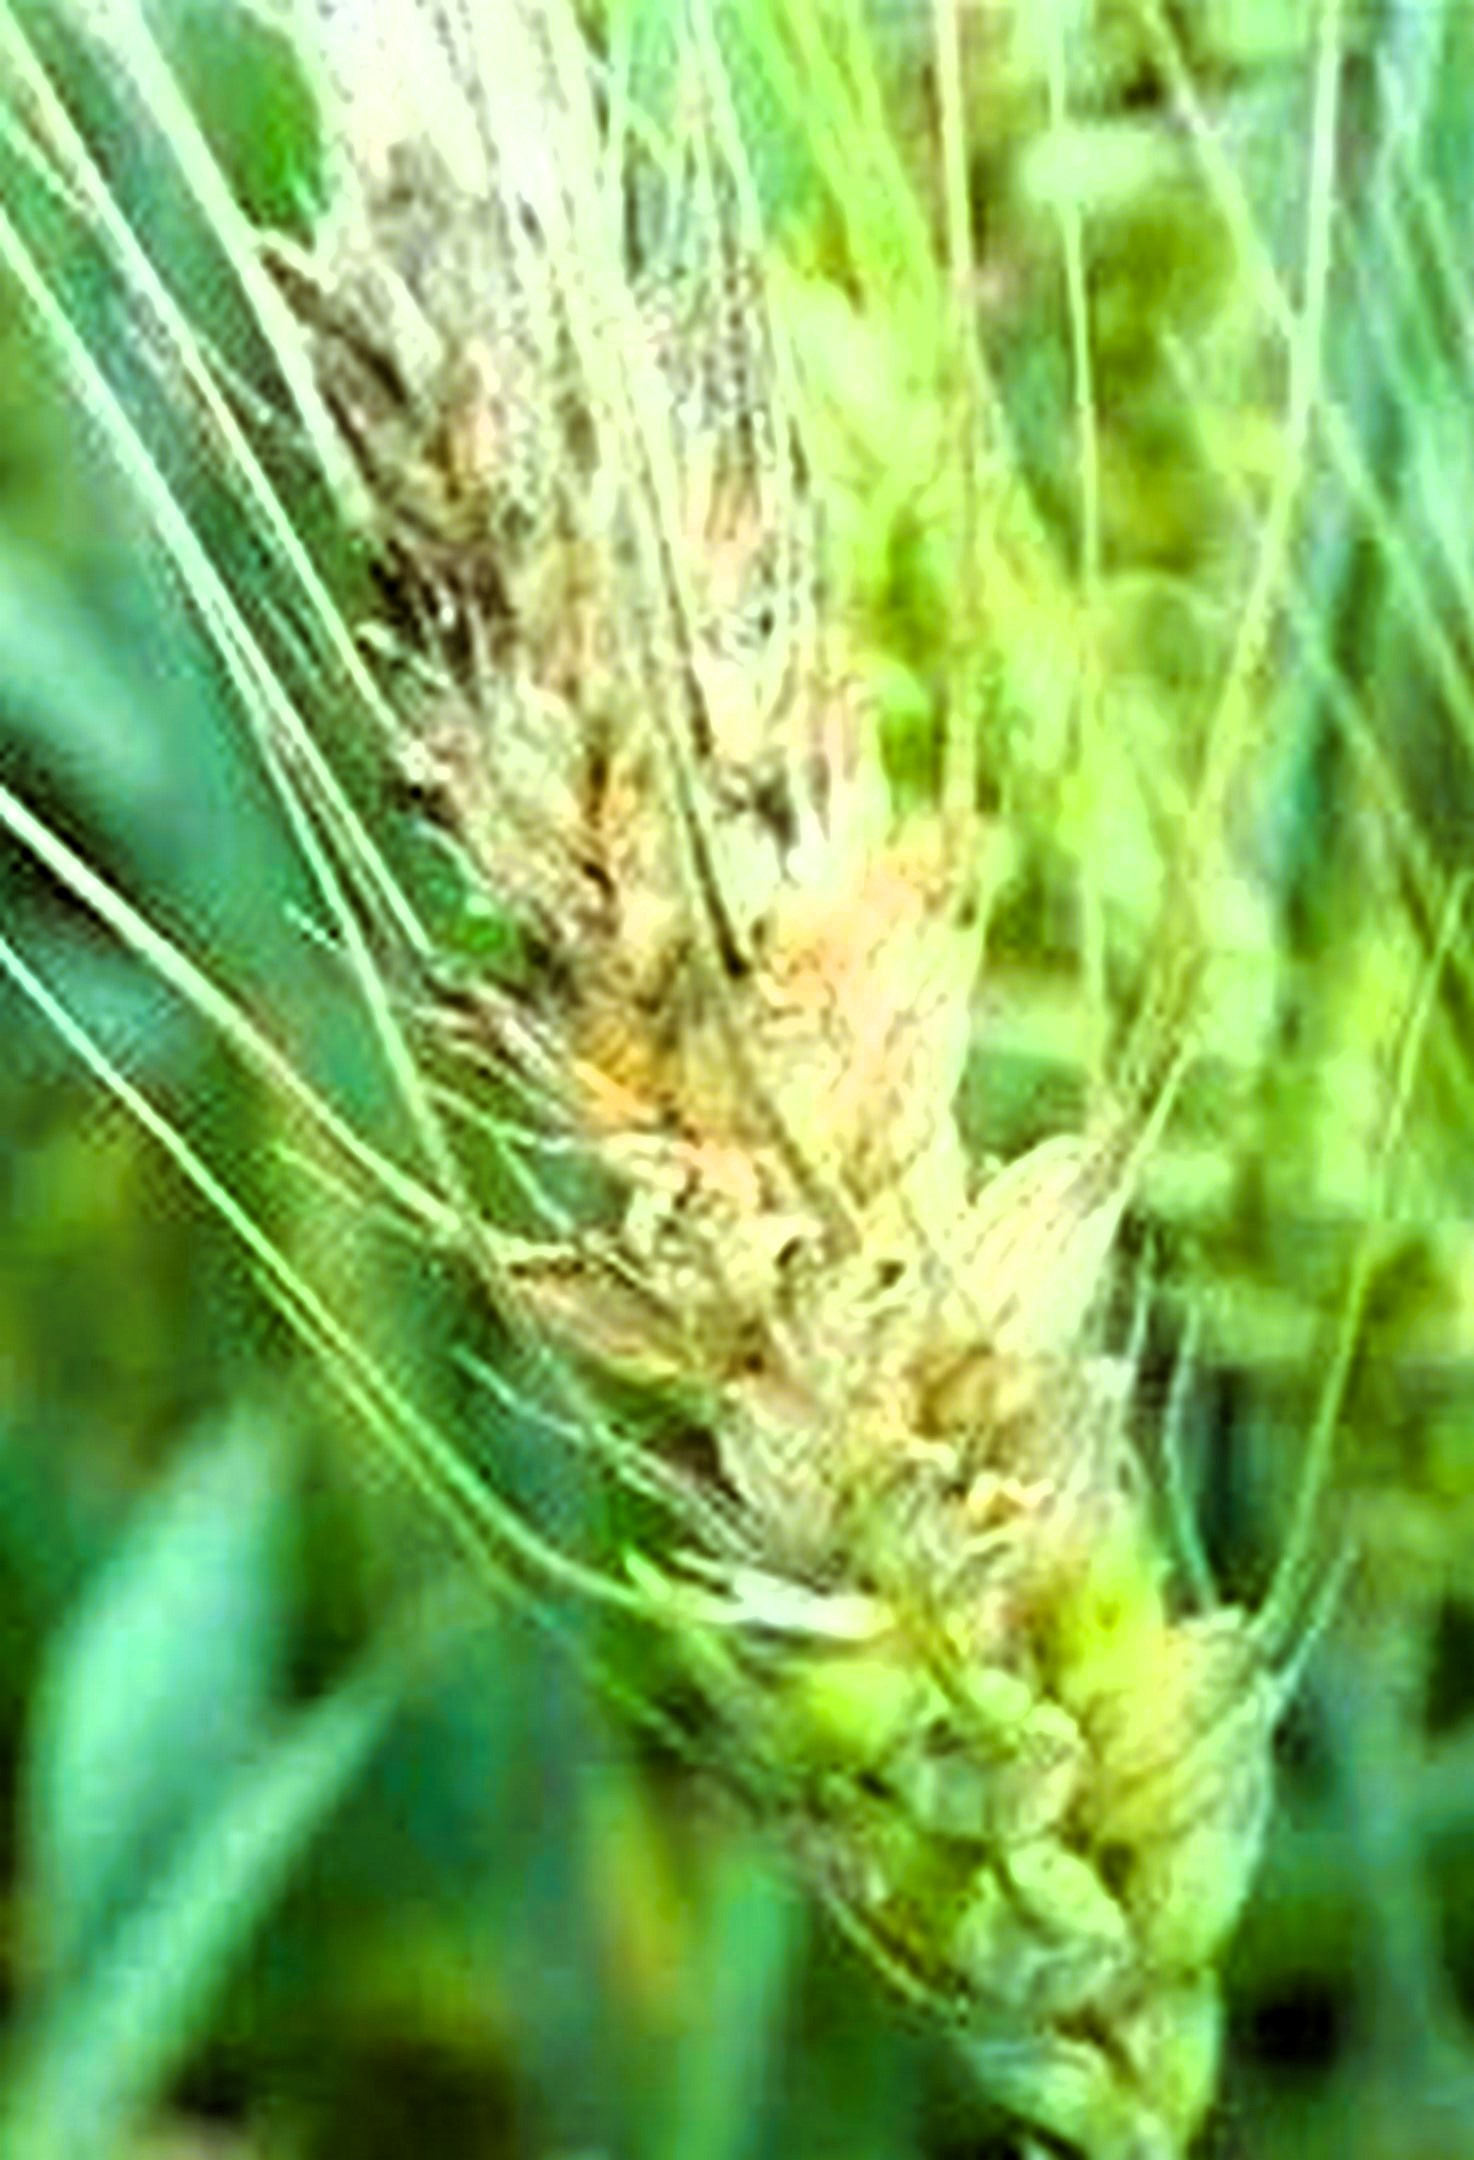Wheat scab: (515, 796, 1297, 2088)
